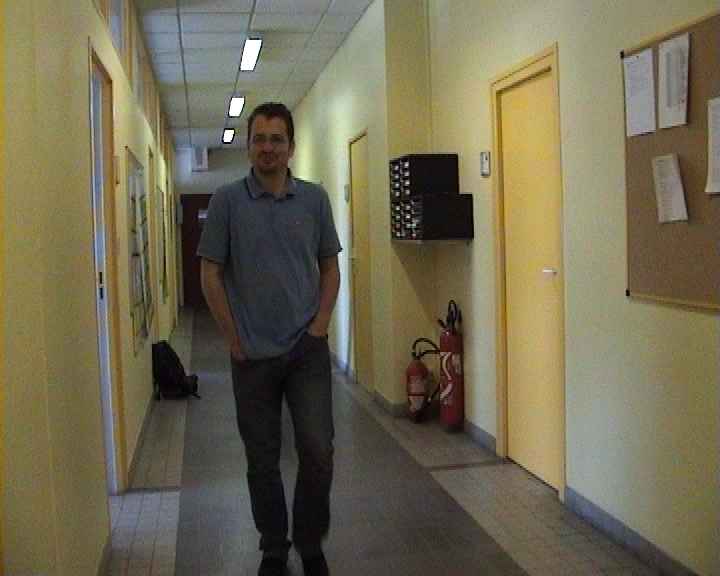leave bag unattended: (133, 314, 241, 449)
